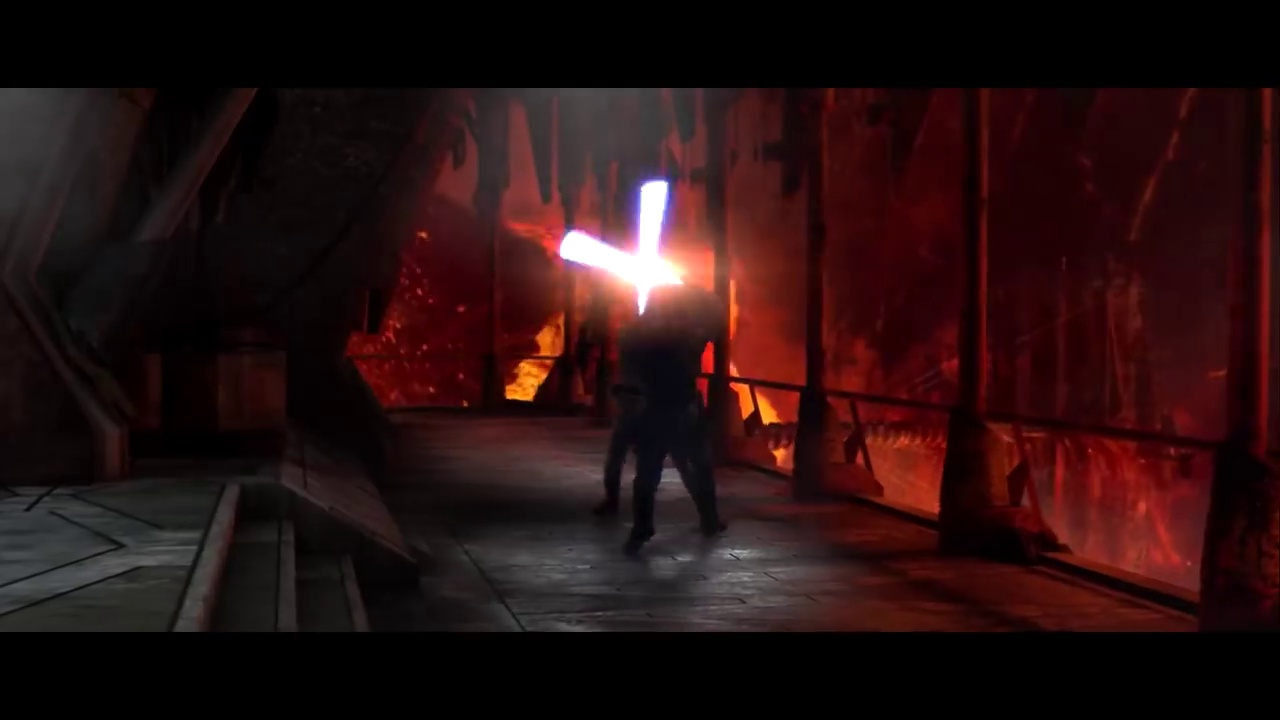lightsaber: (553, 175, 694, 323)
